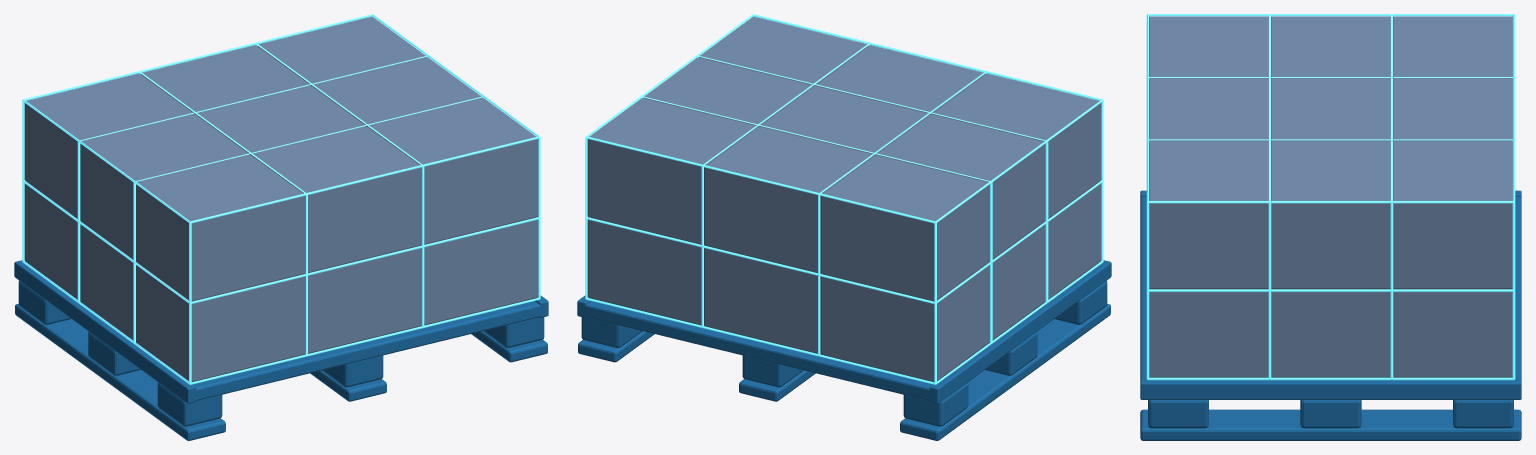
Rendered from SM_Replay_CargoLow.fbx.
The picture shows the model from 3 angles, left to right: view 1: azimuth 30°, elevation 25°; view 2: azimuth 150°, elevation 25°; view 3: azimuth 270°, elevation 25°; orthographic projection. The views are drawn at different scales.
Parts seen in each view (by area): view 1: SM_Replay_CargoLow; view 2: SM_Replay_CargoLow; view 3: SM_Replay_CargoLow.
Part boxes in pixels (bbox=[...]): SM_Replay_CargoLow: bbox=[14, 14, 548, 440]; SM_Replay_CargoLow: bbox=[577, 14, 1111, 440]; SM_Replay_CargoLow: bbox=[1140, 14, 1521, 440].
Bounding box in the file's own units: 120 × 100 × 68.8.
